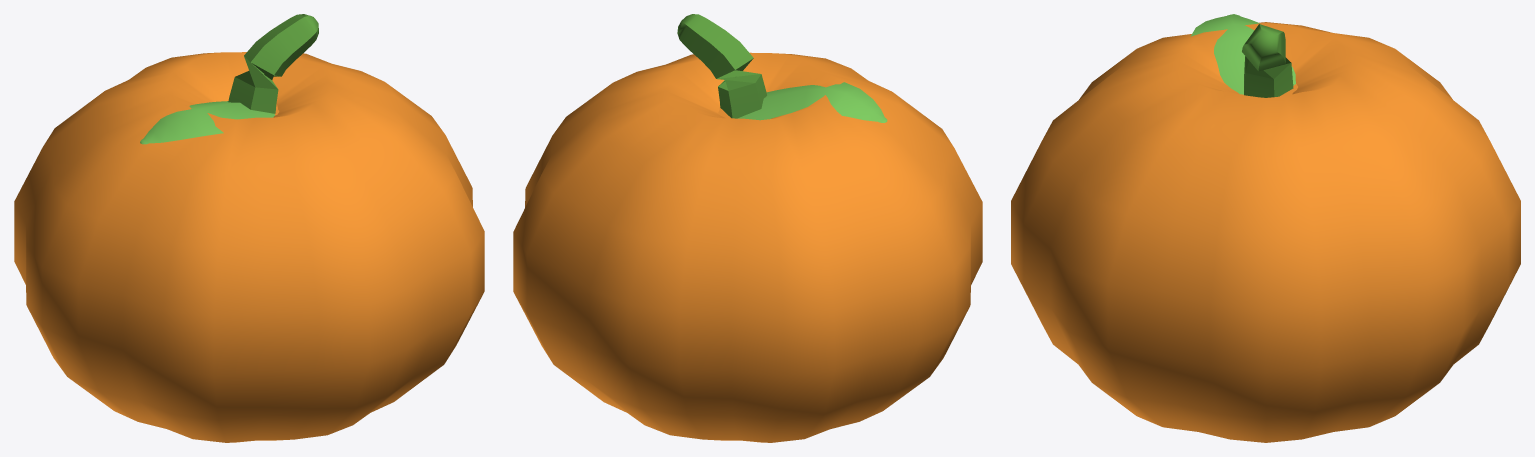
Rendered from item_pumpkin.glb.
The picture shows the model from 3 angles, left to right: view 1: azimuth 30°, elevation 25°; view 2: azimuth 150°, elevation 25°; view 3: azimuth 270°, elevation 25°; orthographic projection. The views are drawn at different scales.
Visible parts, largest first — view 1: item_pumpkin; view 2: item_pumpkin; view 3: item_pumpkin.
Boxes of the visible parts, x1,y1,x2,y2 form: item_pumpkin: (14,14,484,442); item_pumpkin: (513,14,982,442); item_pumpkin: (1011,14,1520,442).
Size of the model in its own units: 0.3151 by 0.276 by 0.3151.
